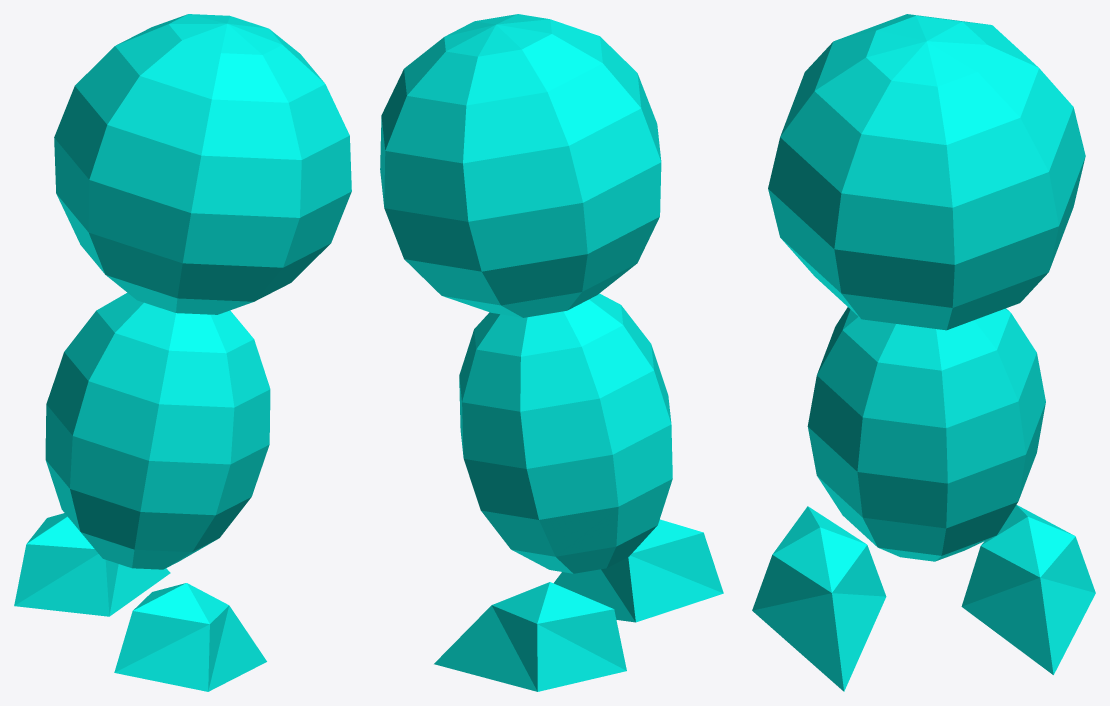
The model's file is ene2.obj.
3 renders of one model, left to right at view 1: azimuth 30°, elevation 25°; view 2: azimuth 150°, elevation 25°; view 3: azimuth 270°, elevation 25°, orthographic. The views are drawn at different scales.
Parts seen in each view (by area): view 1: body_球.003; view 2: body_球.003; view 3: body_球.003.
Boxes of the visible parts, x1,y1,x2,y2 form: body_球.003: (14, 14, 351, 691); body_球.003: (380, 14, 723, 691); body_球.003: (752, 14, 1095, 691).
Bounding box in the file's own units: 2.09 × 4.45 × 2.13.
Materials: 1 (1 with a texture image).
